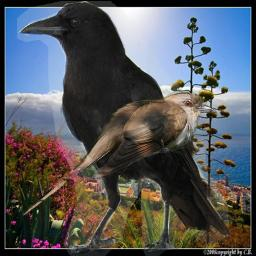Crow: (17, 1, 231, 256)
Cuckoo: (22, 91, 217, 217)
